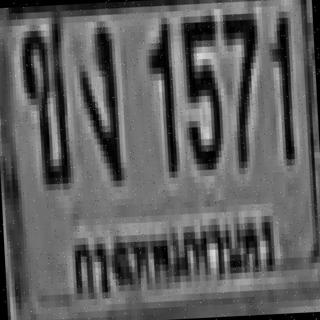A07: (74, 21, 122, 183)
A10: (17, 11, 71, 185)
N01: (144, 18, 174, 173), (266, 12, 294, 160)
N05: (178, 9, 222, 165)
N07: (220, 7, 262, 163)
P04: (65, 198, 276, 296)
